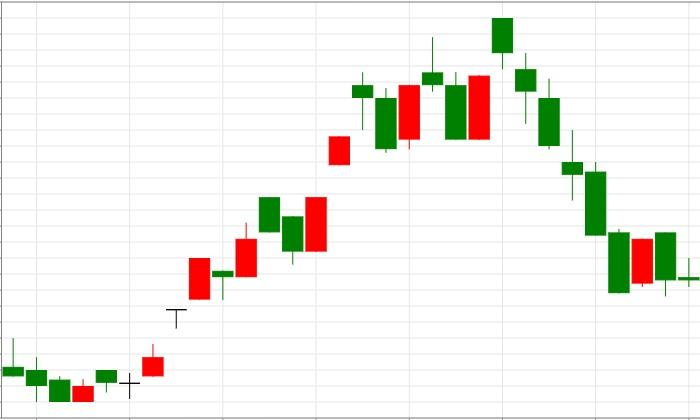three_black_crows_fall: (49, 17, 560, 402)
